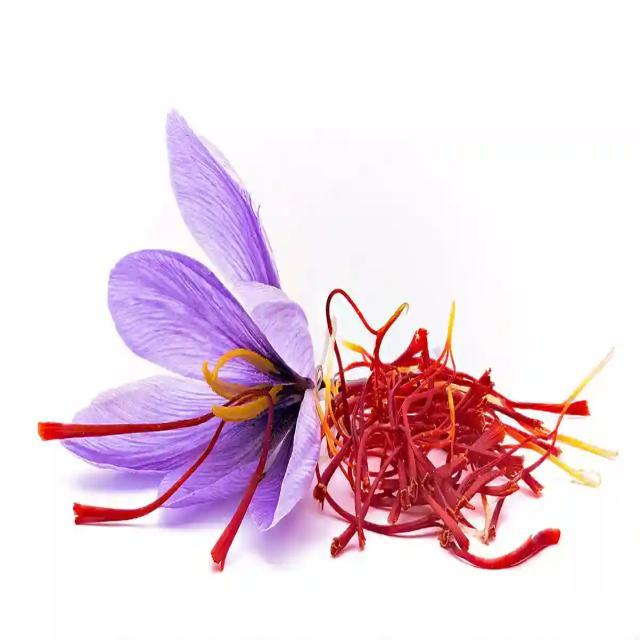Flower: (106, 205, 336, 541)
stigma: (67, 458, 202, 546), (203, 442, 282, 584), (28, 402, 264, 447)
